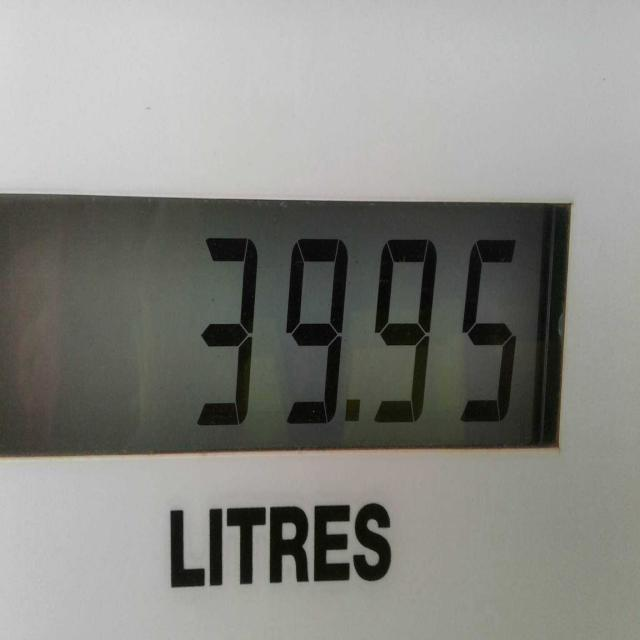.: (347, 392, 363, 424)
3: (202, 242, 260, 433)
5: (459, 242, 520, 424)
9: (284, 232, 350, 436), (374, 238, 435, 429)
